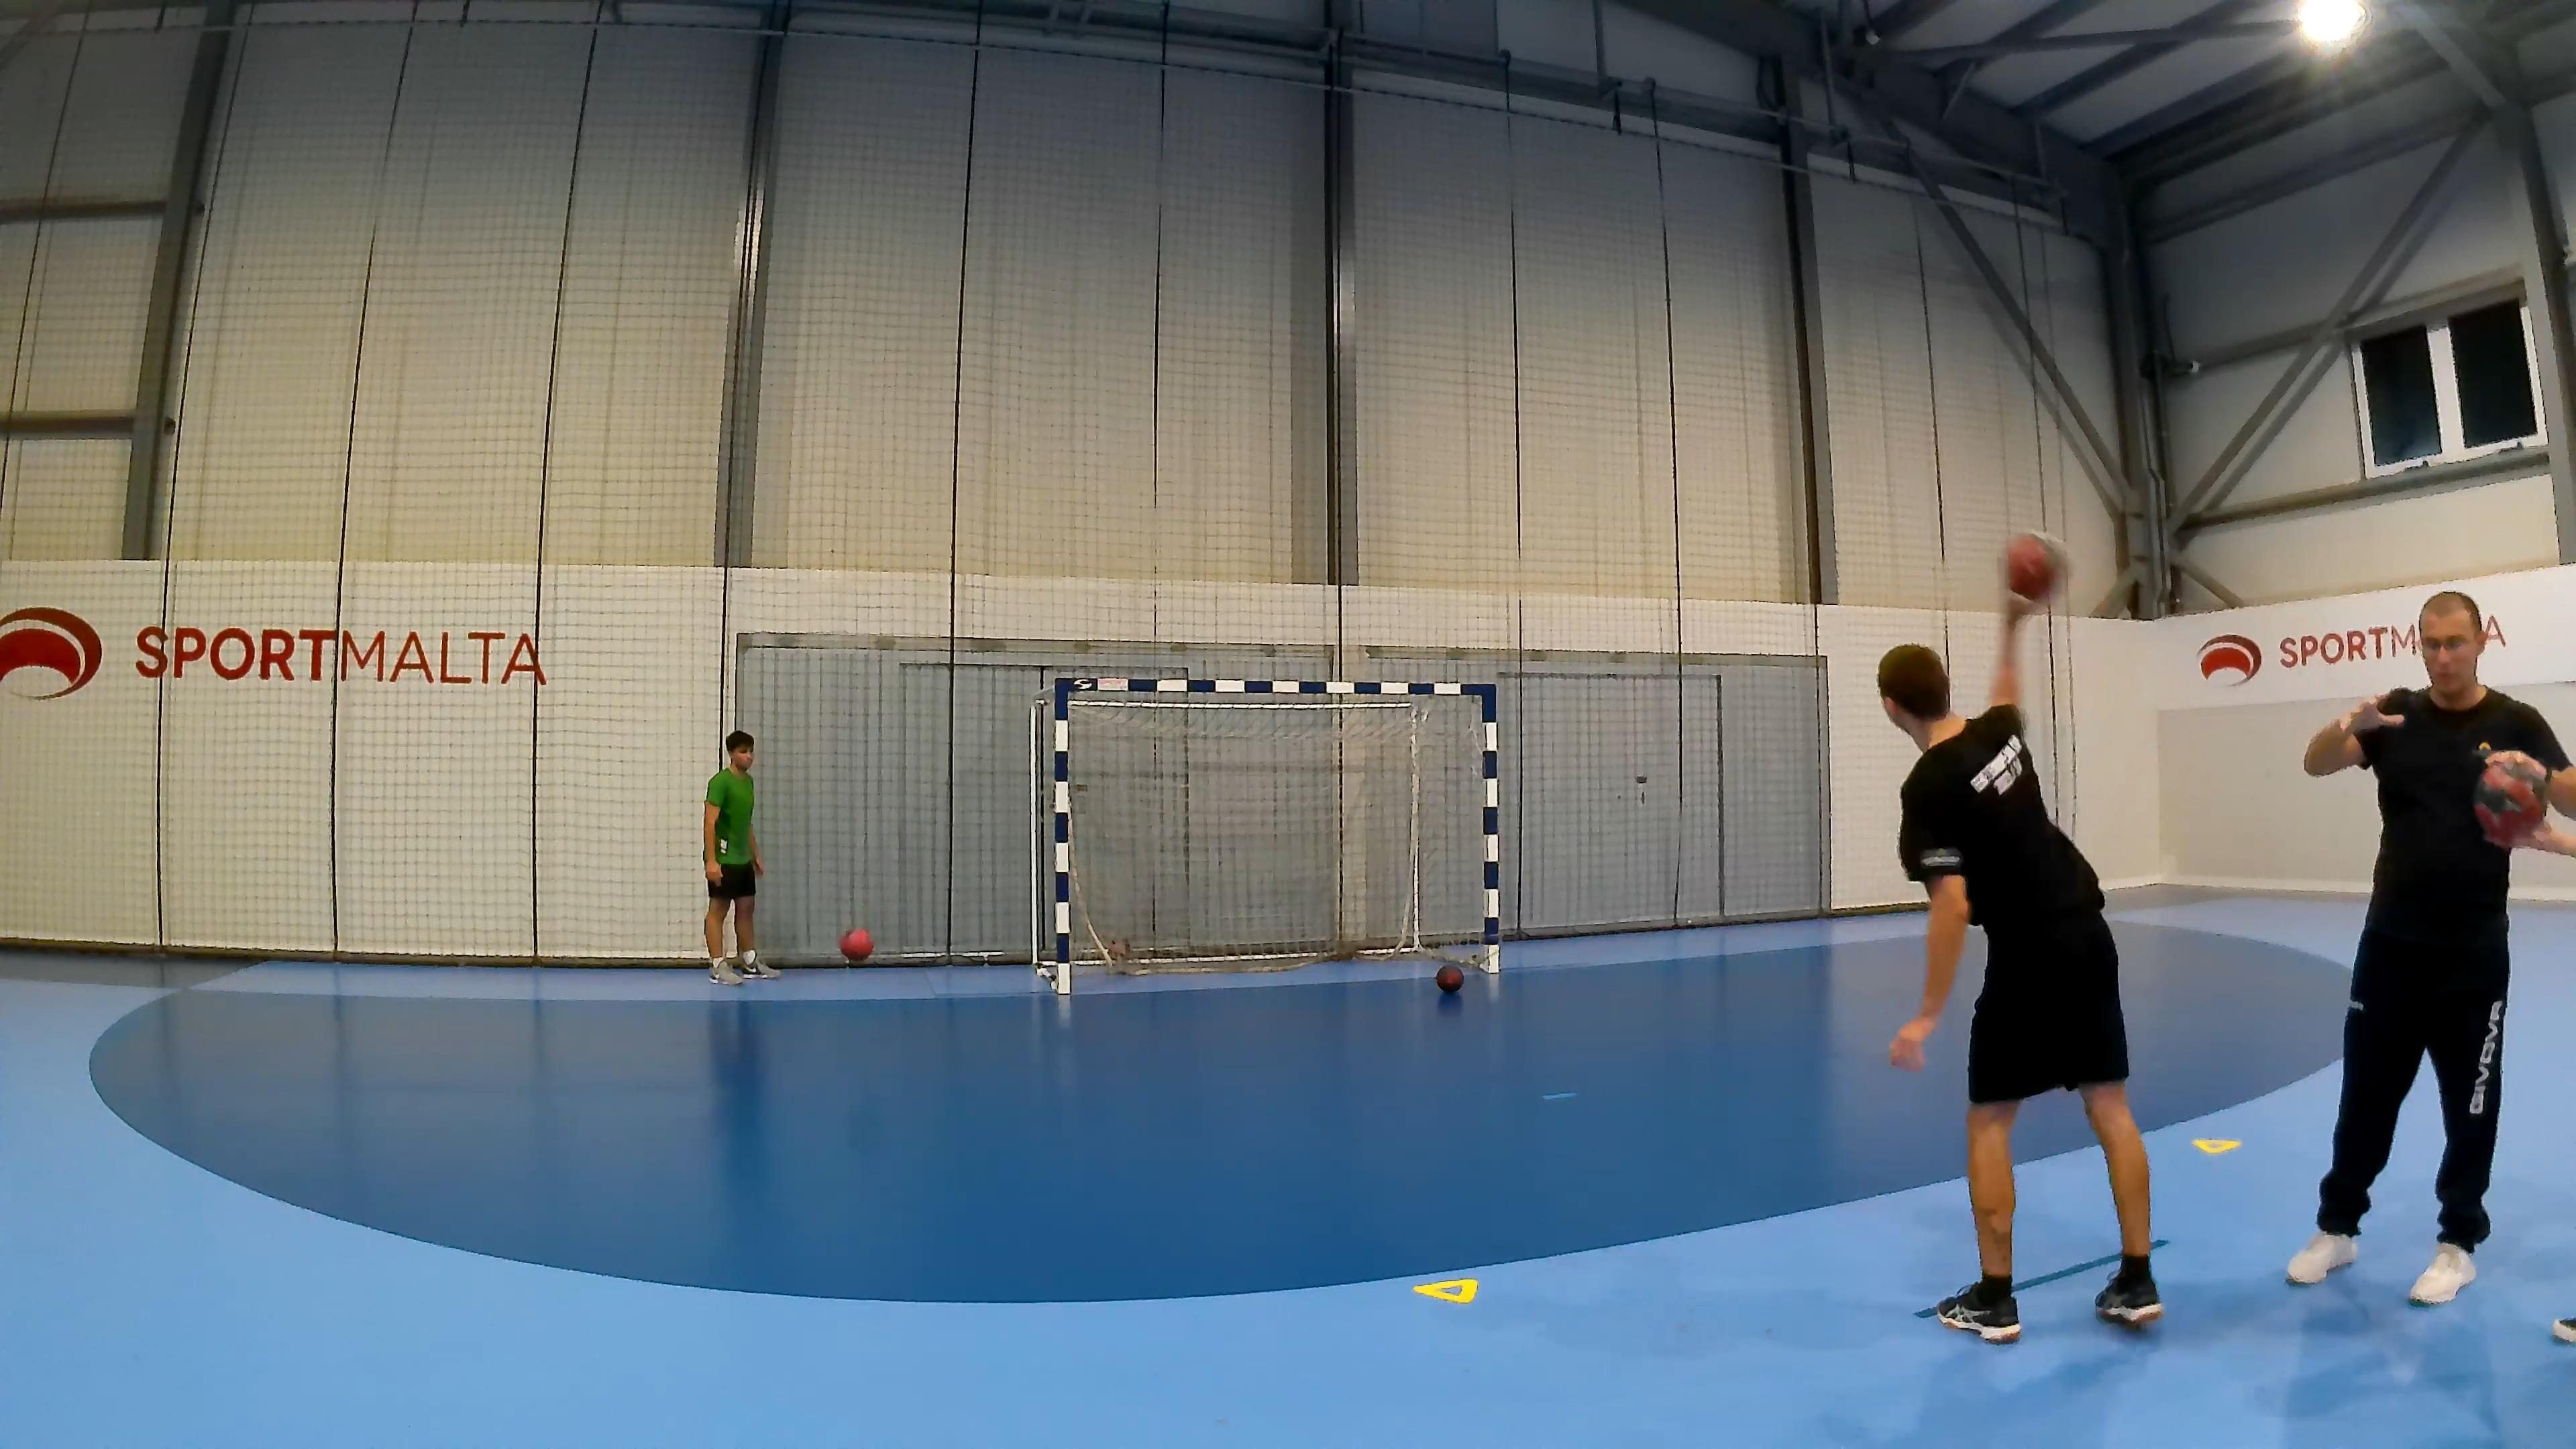handball: (2457, 736, 2571, 870), (2005, 531, 2070, 602), (839, 927, 872, 961), (1435, 962, 1463, 991)
